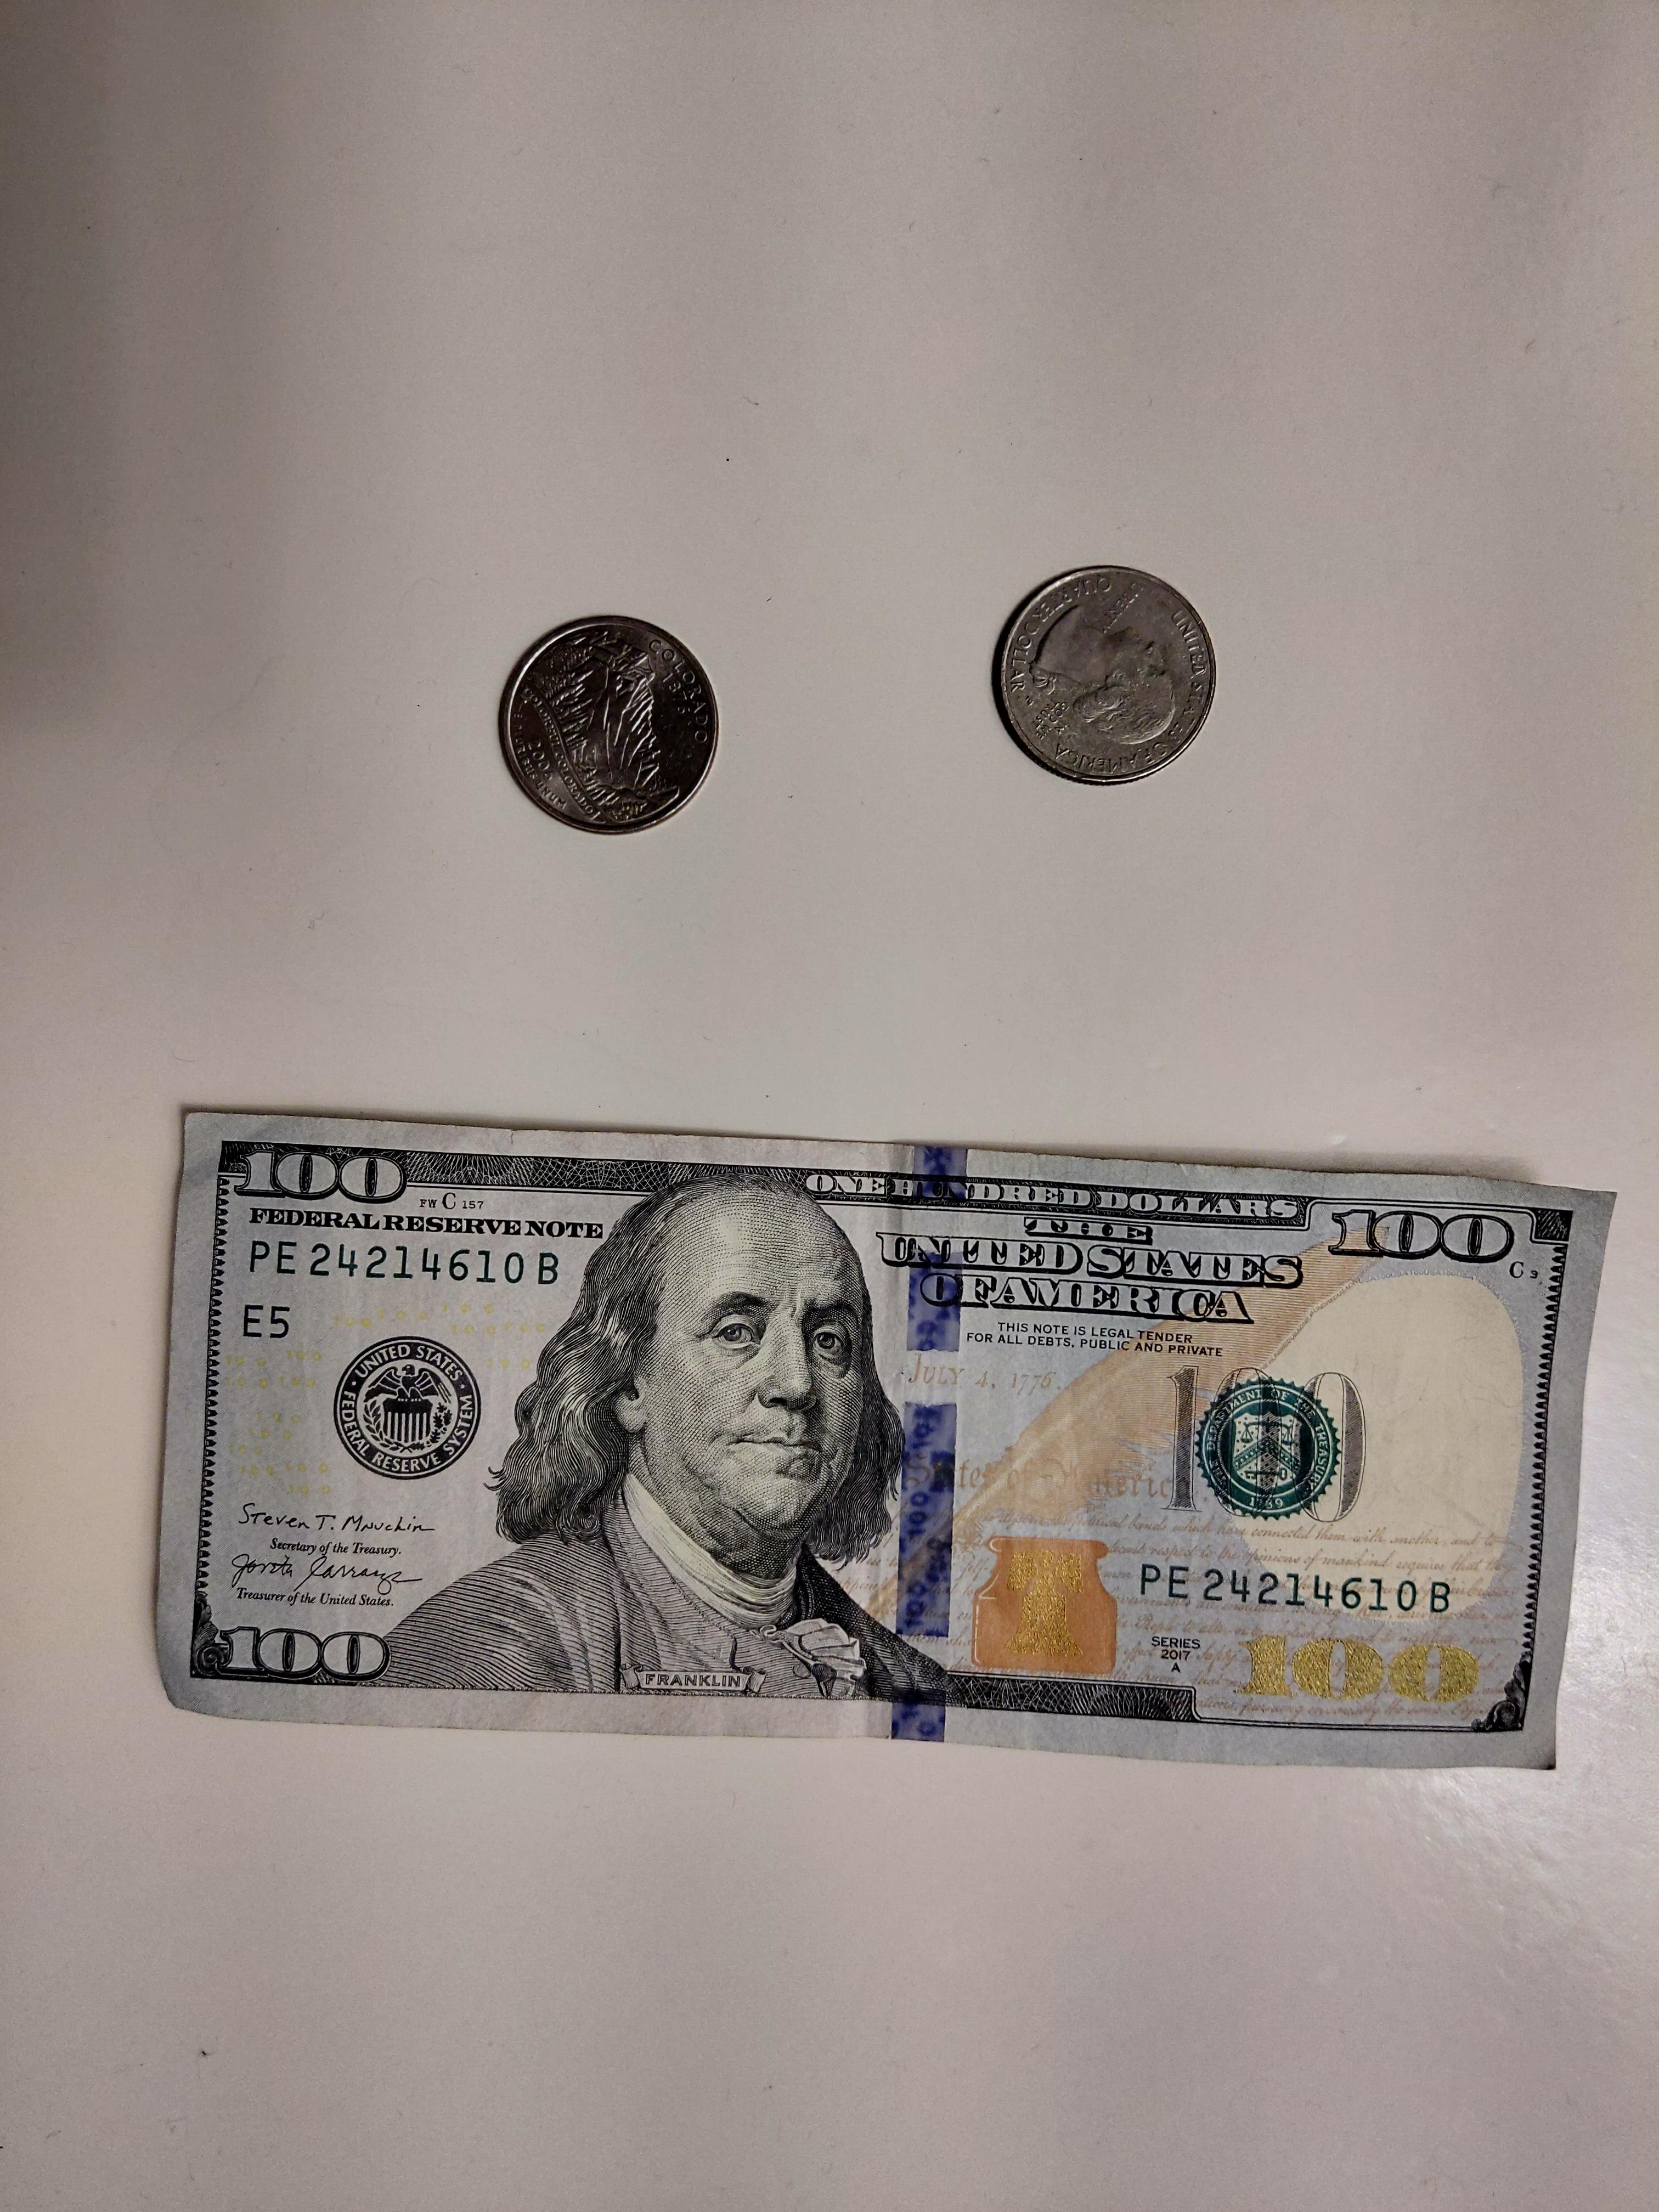HundredBill: (152, 1108, 1624, 1771)
Quarter: (491, 613, 718, 840), (992, 563, 1216, 787)
